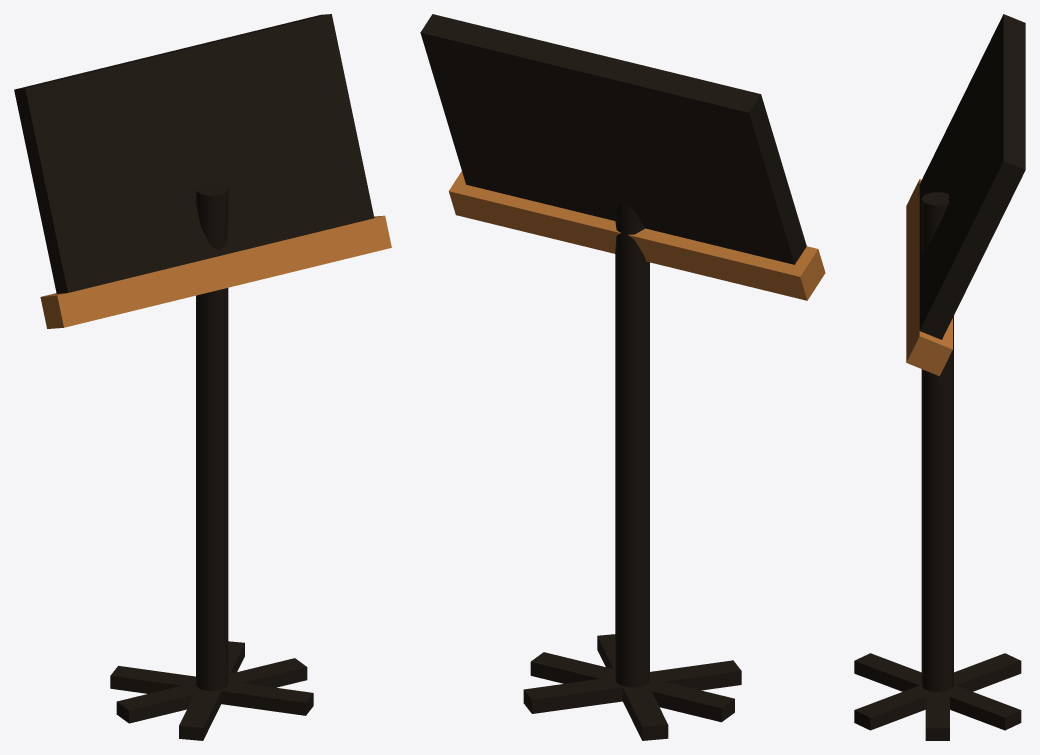
The model's file is music-stand.glb.
3 views of the same model, side by side, from view 1: azimuth 30°, elevation 25°; view 2: azimuth 150°, elevation 25°; view 3: azimuth 270°, elevation 25° (orthographic). The views are drawn at different scales.
Parts seen in each view (by area): view 1: MusicStandTray, MusicStandPole, MusicStandLip, MusicStandFoot (×3); view 2: MusicStandTray, MusicStandPole, MusicStandLip, MusicStandFoot (×3); view 3: MusicStandTray, MusicStandPole, MusicStandFoot (×3), MusicStandLip.
Part boxes in pixels (bbox=[...]): MusicStandTray: bbox=[14, 14, 374, 293]; MusicStandPole: bbox=[196, 182, 228, 691]; MusicStandLip: bbox=[40, 215, 391, 328]; MusicStandFoot (×3): bbox=[110, 641, 313, 740]; MusicStandTray: bbox=[420, 14, 806, 264]; MusicStandPole: bbox=[615, 203, 649, 687]; MusicStandLip: bbox=[448, 171, 825, 300]; MusicStandFoot (×3): bbox=[523, 634, 741, 740]; MusicStandTray: bbox=[919, 14, 1025, 339]; MusicStandPole: bbox=[921, 192, 953, 691]; MusicStandFoot (×3): bbox=[854, 653, 1021, 740]; MusicStandLip: bbox=[906, 179, 952, 376].
Bounding box in the file's own units: 0.92 × 1.67 × 0.4239.
